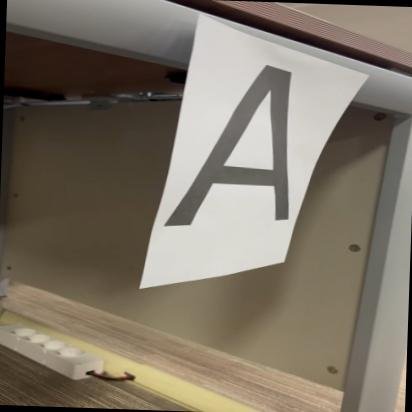seat: (162, 60, 322, 238)
